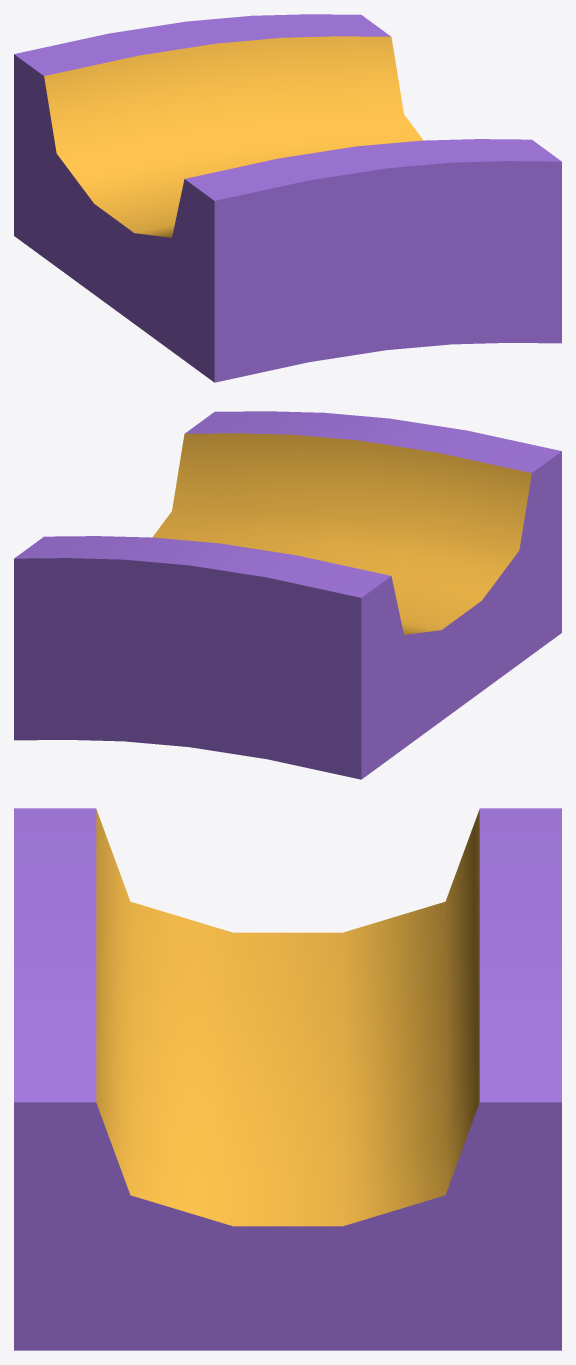
File: ramp-end-a-col.glb
3 renders of one model, top to bottom at view 1: azimuth 30°, elevation 25°; view 2: azimuth 150°, elevation 25°; view 3: azimuth 270°, elevation 25°, orthographic. The views are drawn at different scales.
Parts seen in each view (by area): view 1: ramp-end-a-col; view 2: ramp-end-a-col; view 3: ramp-end-a-col.
Part boxes in pixels (left/top/right/bottom): ramp-end-a-col: left=14, top=14, right=561, bottom=382; ramp-end-a-col: left=14, top=411, right=561, bottom=779; ramp-end-a-col: left=14, top=808, right=561, bottom=1350.
Bounding box in the file's own units: 1 × 0.625 × 1.
Materials: 1 (1 with a texture image).
